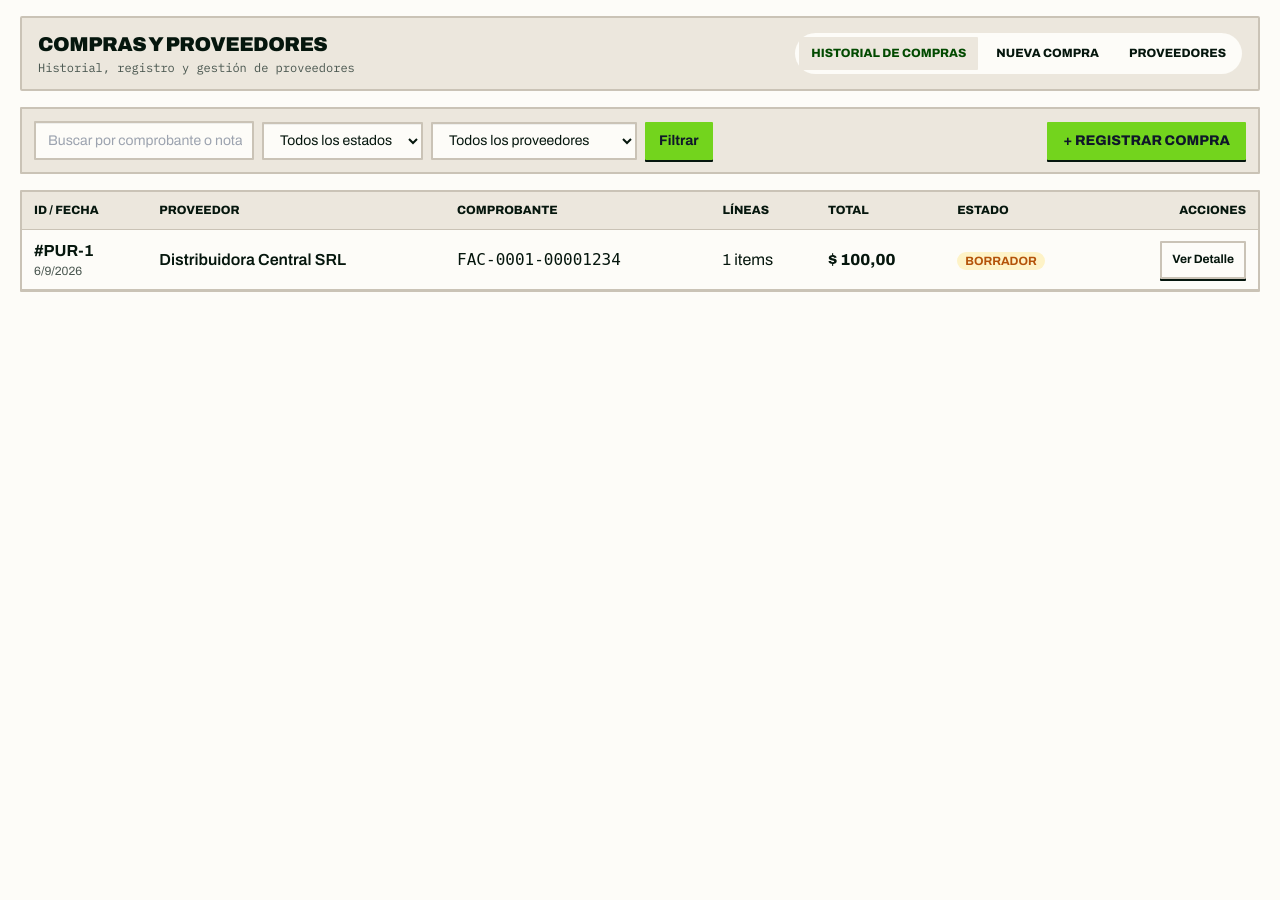
Scenario: PurchasesScreen Component - Vertical Slice 5 UI › opens and displays supplier creation modal
The image size is (1280, 900).
Click the tab with test id "subtab-purchases-suppliers" at [1178, 53], box [1117,37,1238,70]
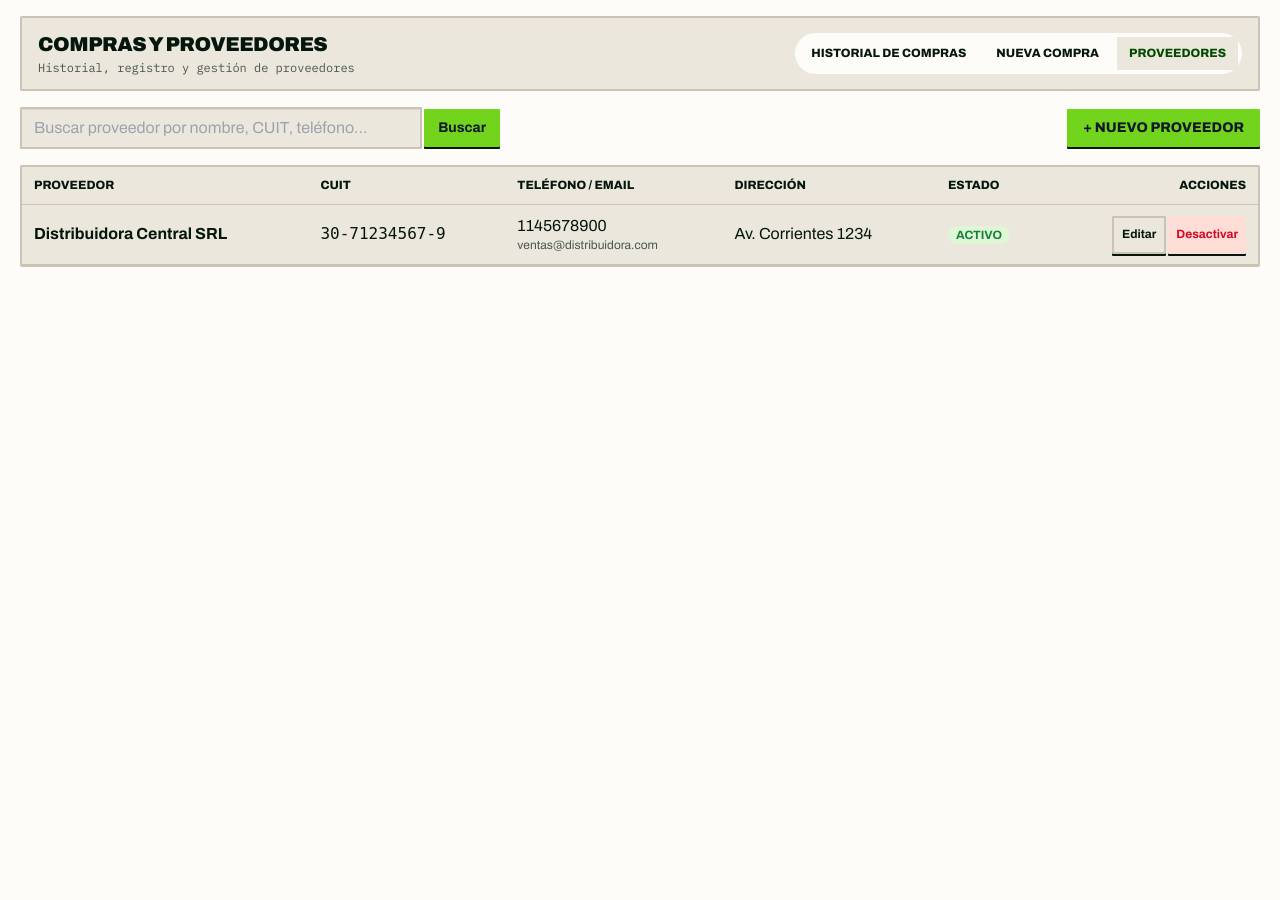
Now the button with test id "create-supplier-button" is shown
Click the button with test id "create-supplier-button" at [1164, 128], box [1067,109,1260,147]
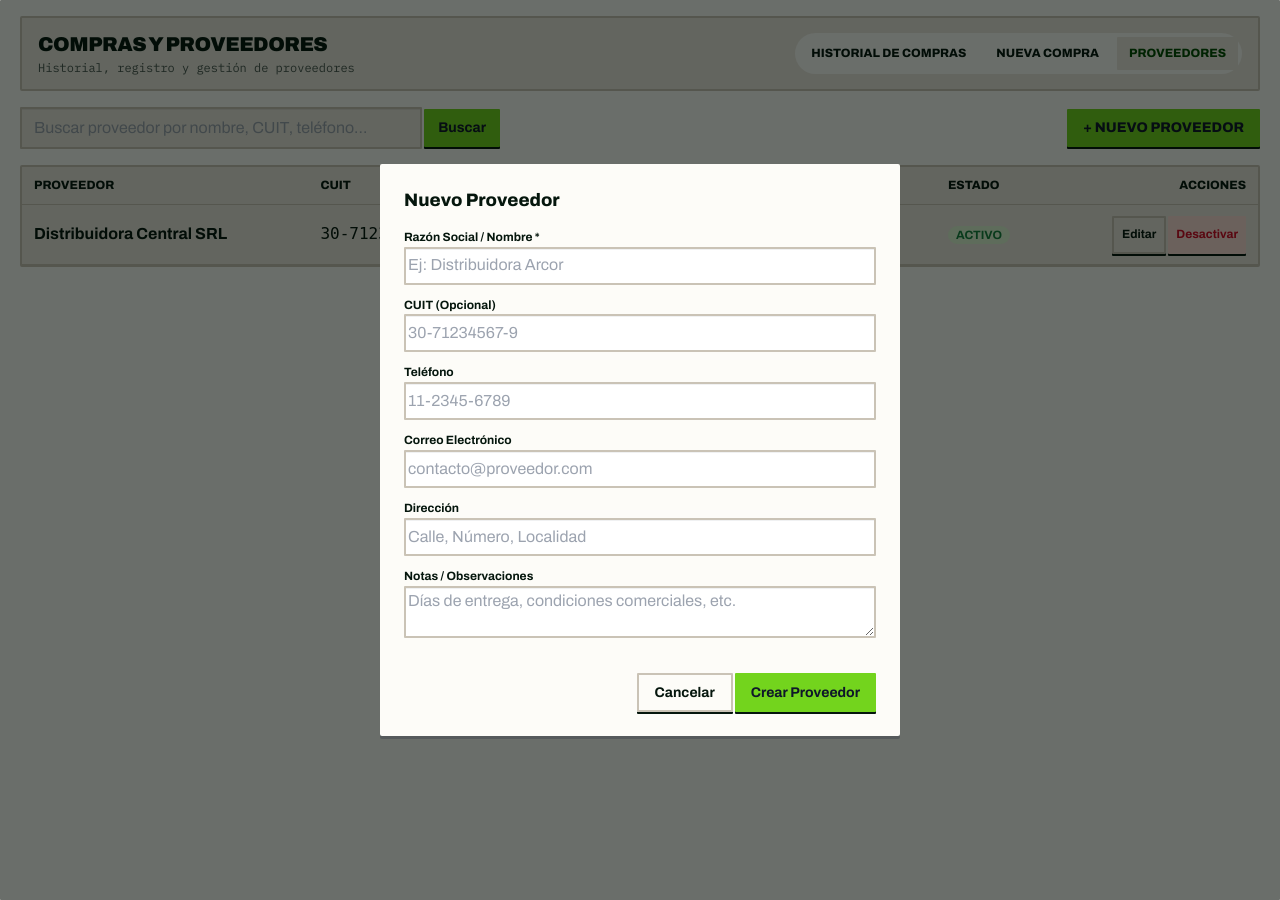
Now the dialog with test id "supplier-modal" is shown
Now the field with test id "supplier-form-name" is shown, box [404,247,876,285]
